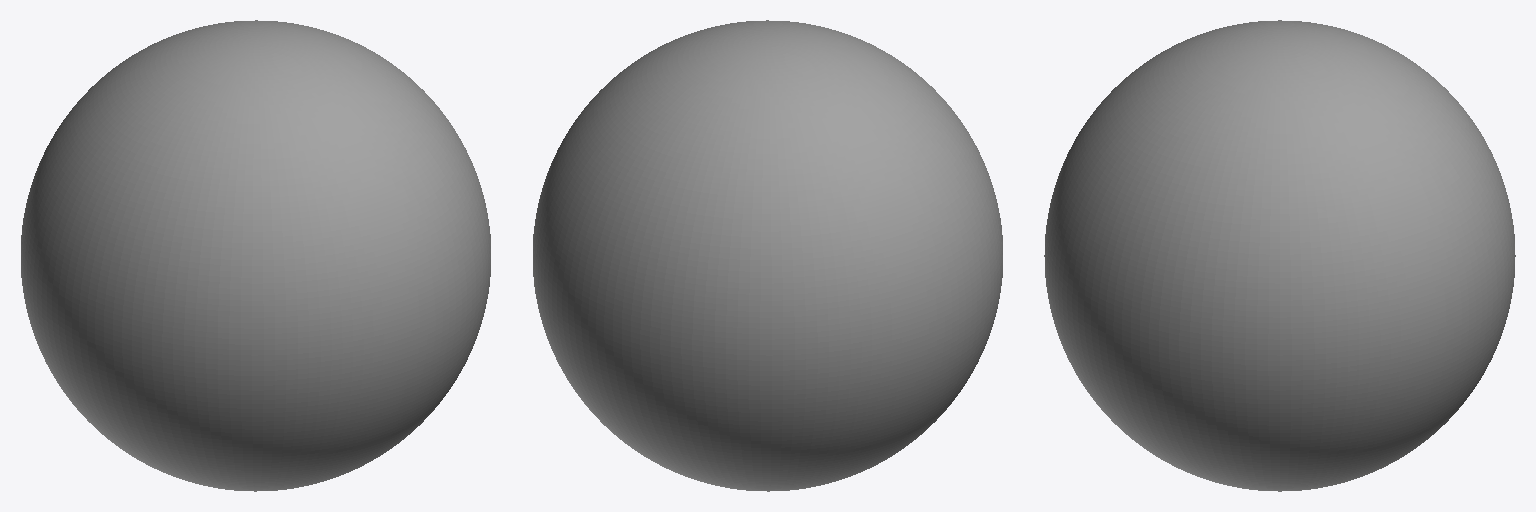
File: mars.obj
3 renders of one model, left to right at view 1: azimuth 30°, elevation 25°; view 2: azimuth 150°, elevation 25°; view 3: azimuth 270°, elevation 25°, orthographic.
Visible parts, largest first — view 1: mars_sphere; view 2: mars_sphere; view 3: mars_sphere.
Part boxes in pixels (x1,y1,x2,y2): mars_sphere: (21, 20, 490, 491); mars_sphere: (533, 20, 1002, 491); mars_sphere: (1044, 20, 1515, 491).
Bounding box in the file's own units: 2 × 2 × 2.